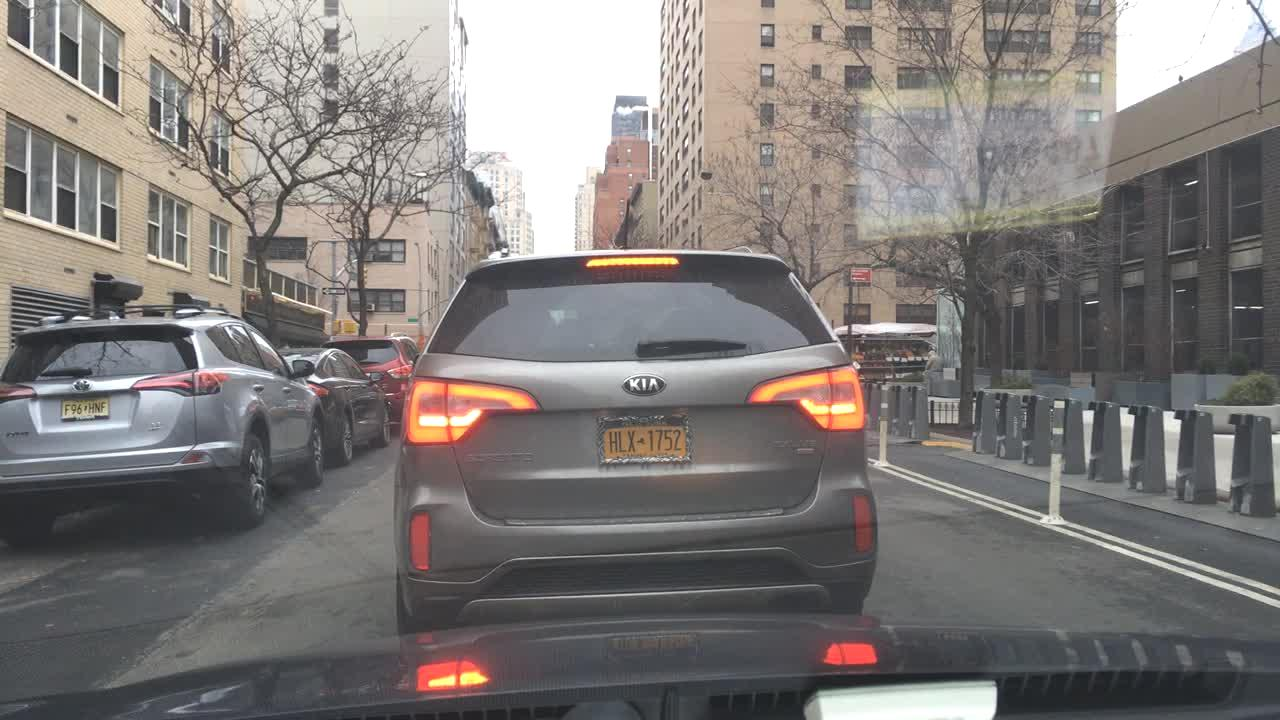Toyota: (69, 375, 98, 394)
kia: (615, 367, 679, 410)
